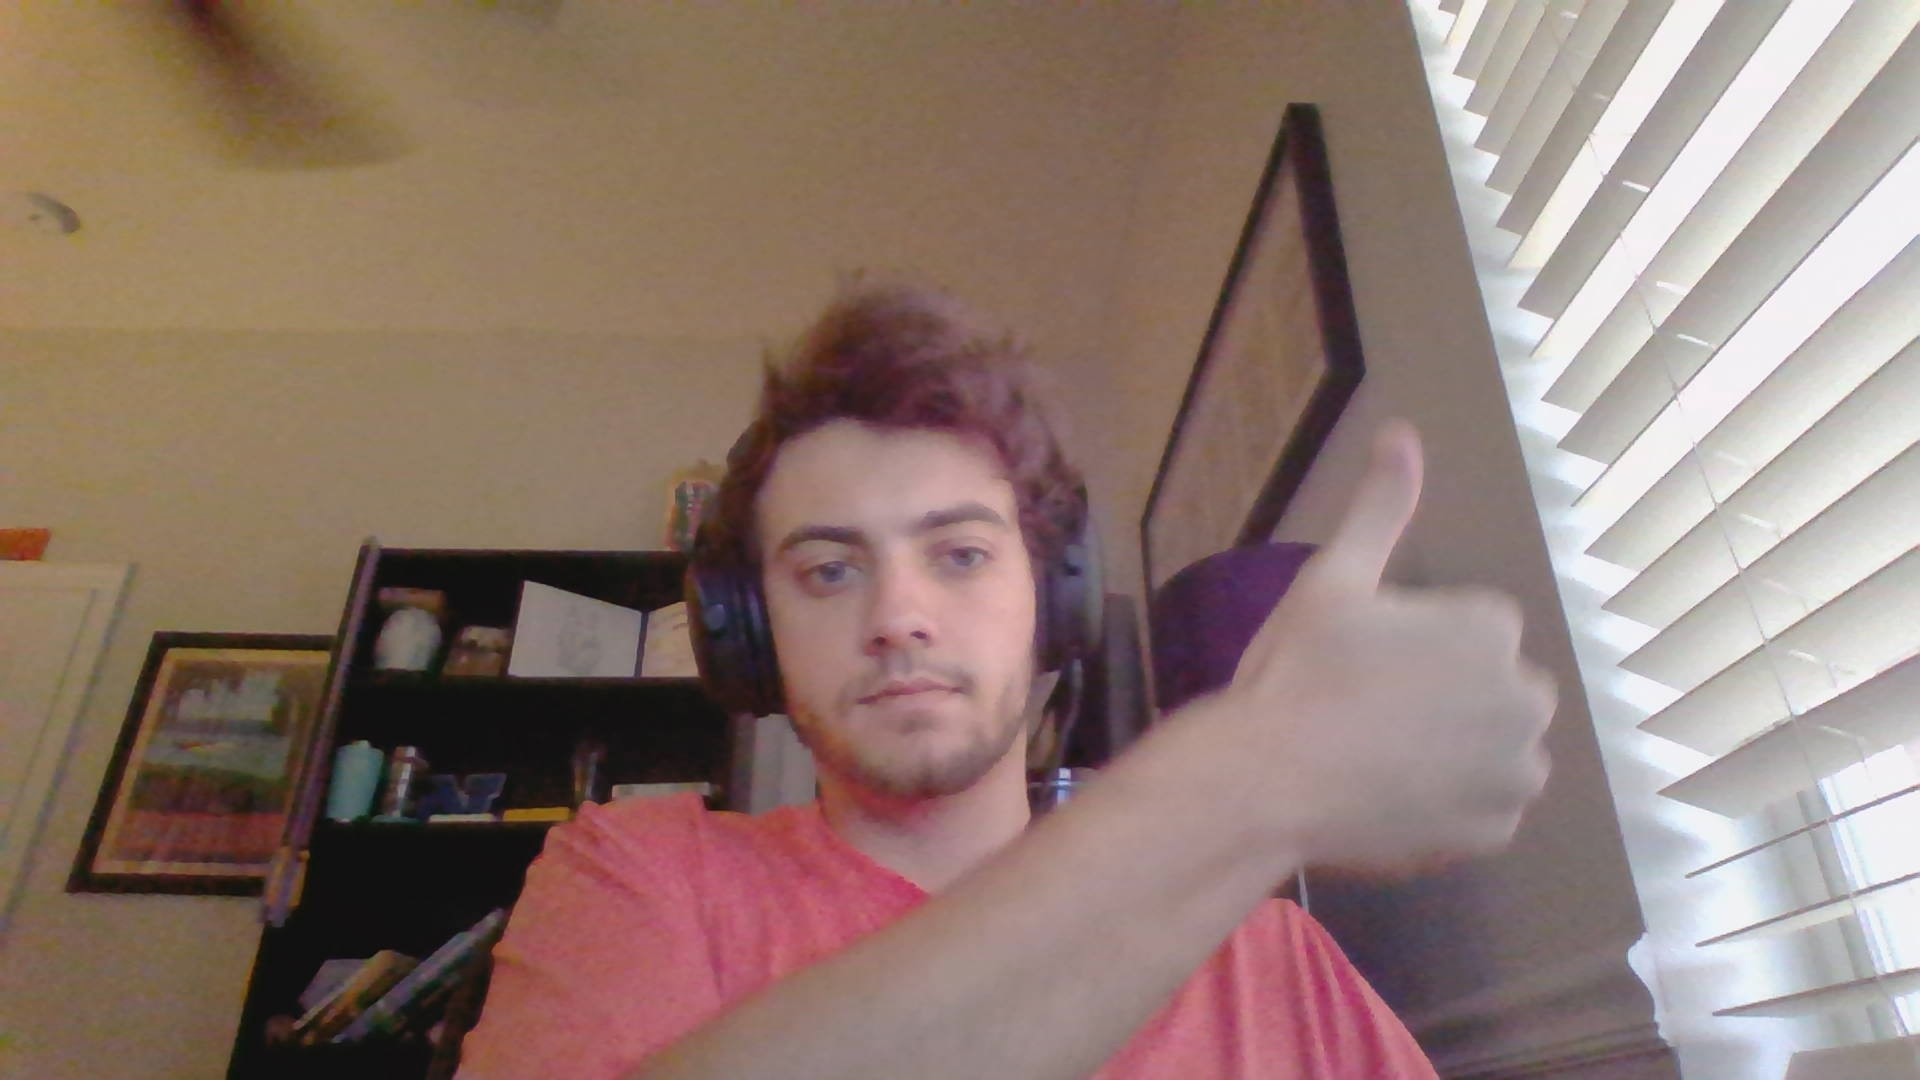Right Thumb Up: (1193, 406, 1582, 893)
